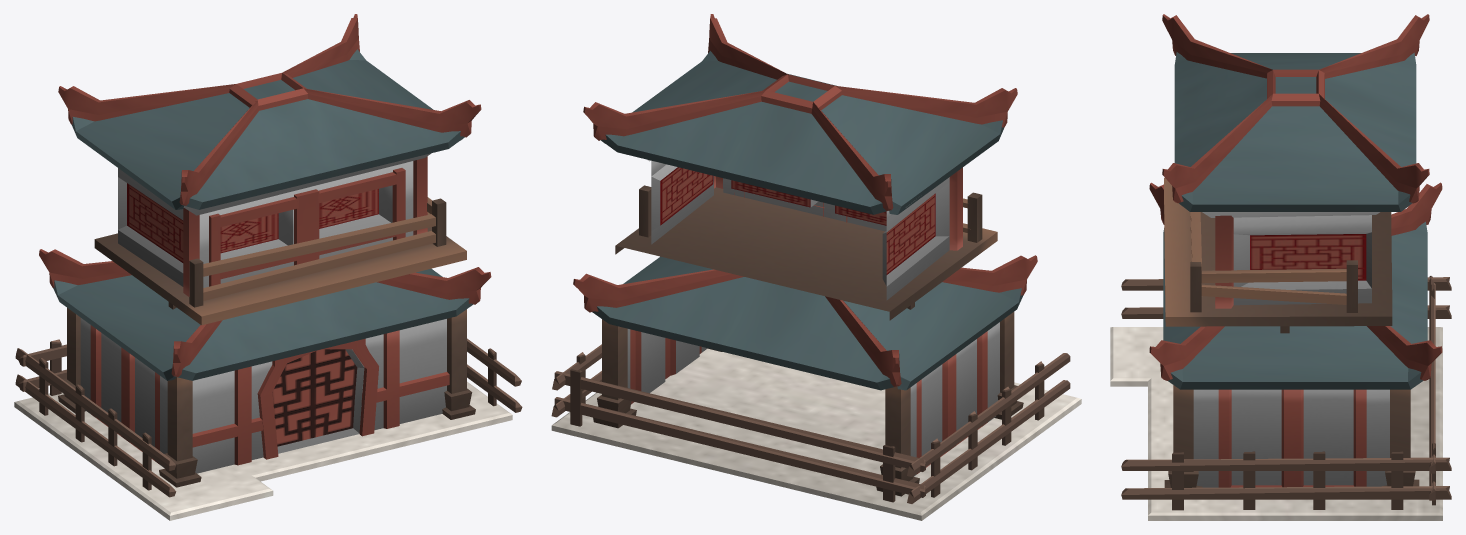
Rendered from blacksmith_3lvl.fbx.
3 renders of one model, left to right at view 1: azimuth 30°, elevation 25°; view 2: azimuth 150°, elevation 25°; view 3: azimuth 270°, elevation 25°, orthographic. The views are drawn at different scales.
Parts seen in each view (by area): view 1: blacksmith_3lvl; view 2: blacksmith_3lvl; view 3: blacksmith_3lvl.
Boxes of the visible parts, x1,y1,x2,y2 form: blacksmith_3lvl: (14,14,522,520); blacksmith_3lvl: (551,14,1081,520); blacksmith_3lvl: (1110,14,1451,520).
Size of the model in its own units: 6.01 by 5.18 by 4.6.
Materials: 1 (1 with a texture image).
